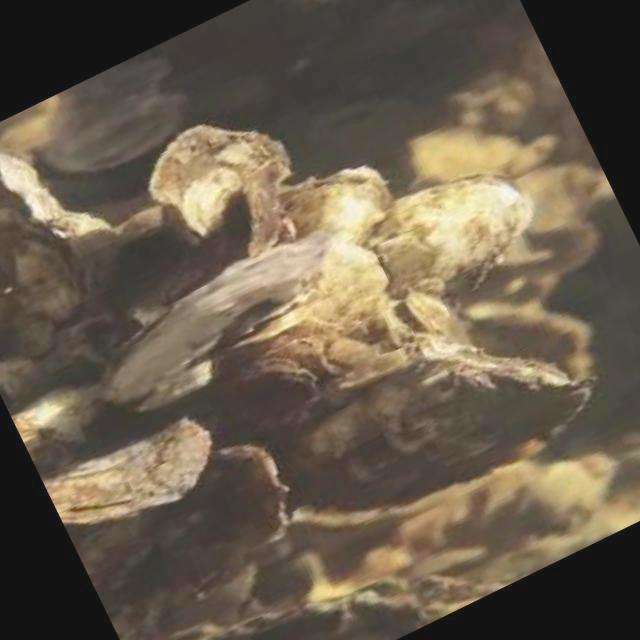Oyster-Closed: (276, 334, 593, 507), (94, 243, 327, 406), (155, 566, 546, 639), (365, 176, 537, 309), (34, 411, 212, 524), (143, 124, 286, 256), (164, 441, 287, 564), (181, 356, 312, 445), (288, 236, 392, 340), (458, 293, 587, 373), (0, 210, 85, 322), (283, 160, 394, 243), (405, 123, 518, 187), (14, 381, 110, 440), (514, 164, 594, 225), (517, 221, 593, 276), (0, 152, 56, 226), (403, 286, 471, 343)
Oyster-Open: (219, 287, 313, 351), (306, 95, 389, 139)
